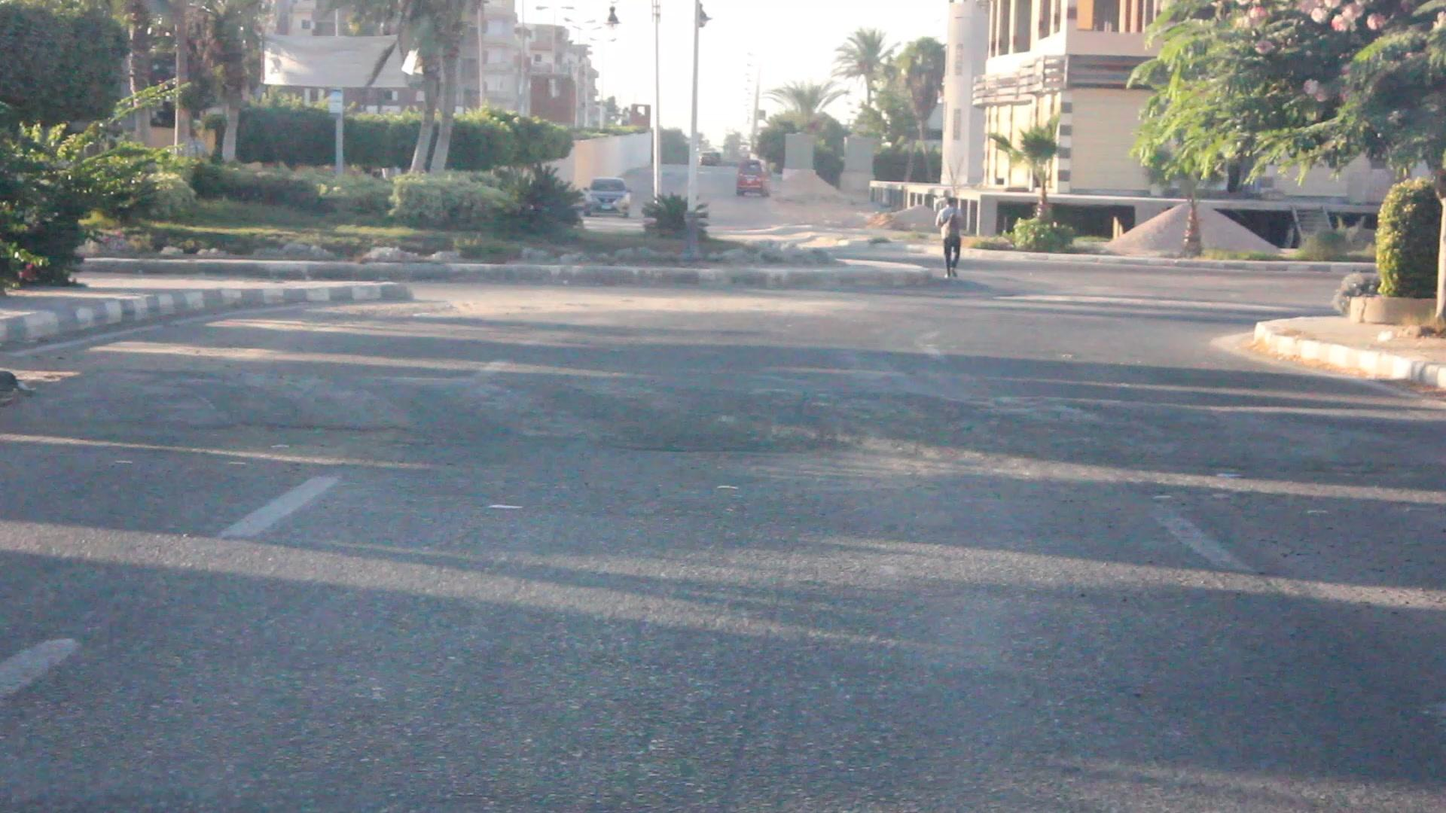Bump: (72, 335, 1446, 461)
